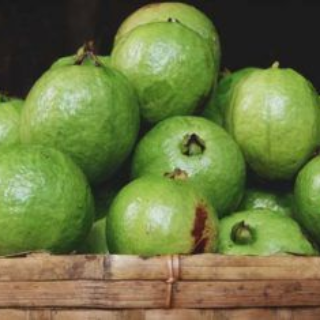oi: (229, 65, 317, 180)
